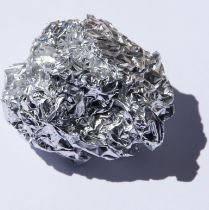Dead: (1, 11, 200, 183)
